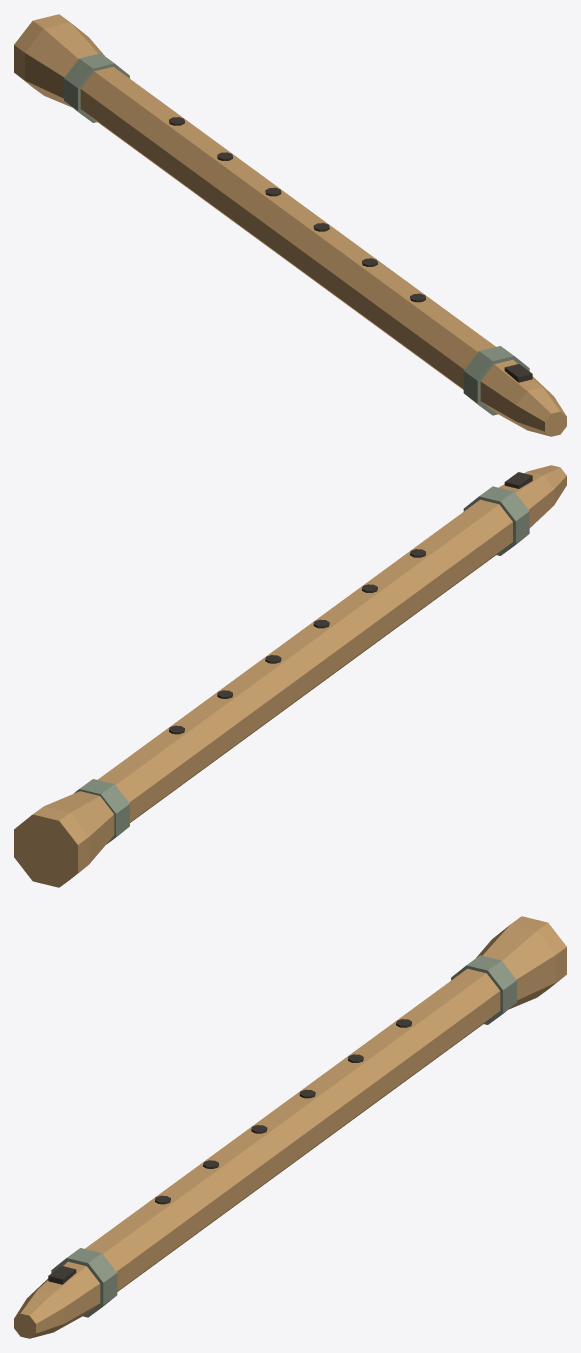
Rendered from Flute_LowPoly.fbx.
The picture shows the model from 3 angles, top to bottom: view 1: azimuth 30°, elevation 25°; view 2: azimuth 150°, elevation 25°; view 3: azimuth 330°, elevation 25°; orthographic projection.
Visible parts, largest first — view 1: Flute; view 2: Flute; view 3: Flute.
Boxes of the visible parts, <box> form: Flute: <box>14,14,566,436</box>; Flute: <box>14,465,566,887</box>; Flute: <box>14,916,566,1338</box>.
Bounding box in the file's own units: 0.0268 × 0.0268 × 0.37.
